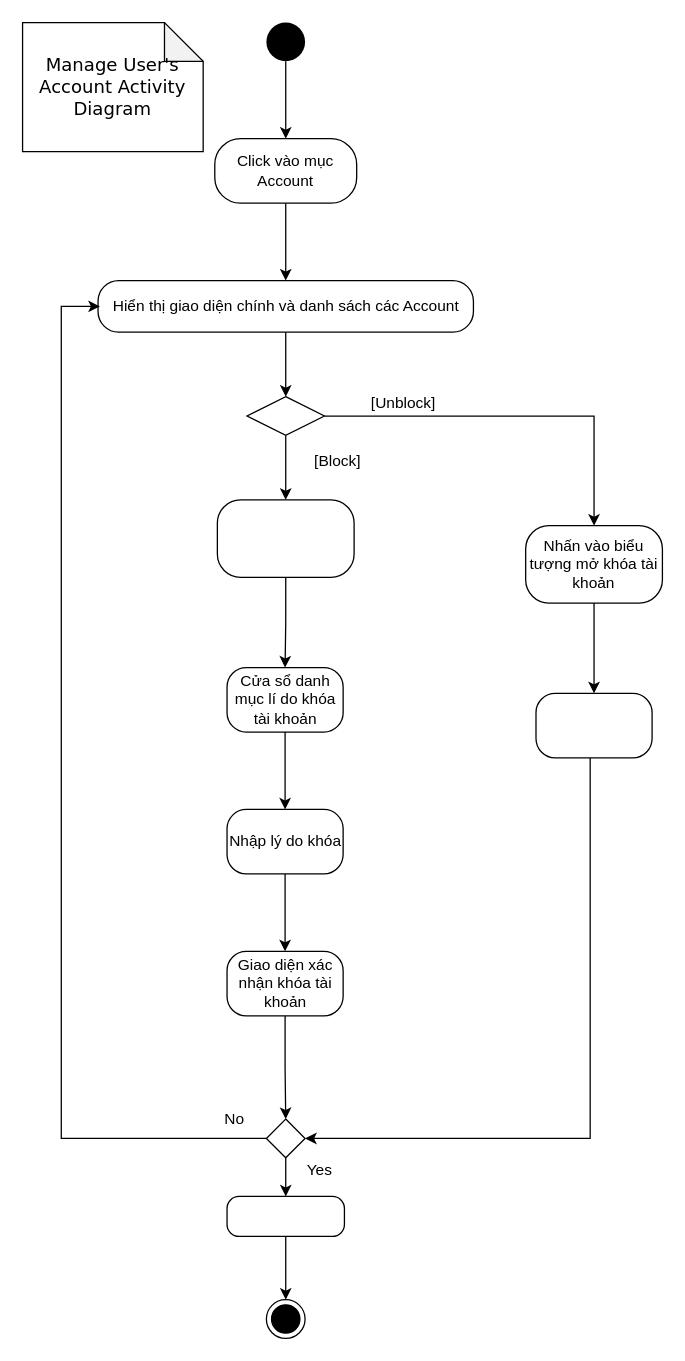
The diagram is 685 pixels wide and 1361 high, and some of its shapes have lost their labels. Here are the shapes that lost their labels. From the top down, the centre of each, then its label:
At pixel 285 538: "Nhấn vào biểu tượng khóa tài khoản".
At pixel 593 725: "Giao diện xác nhận mở khóa tài khoản".
At pixel 285 1215: "Cập nhật danh sách Account".
